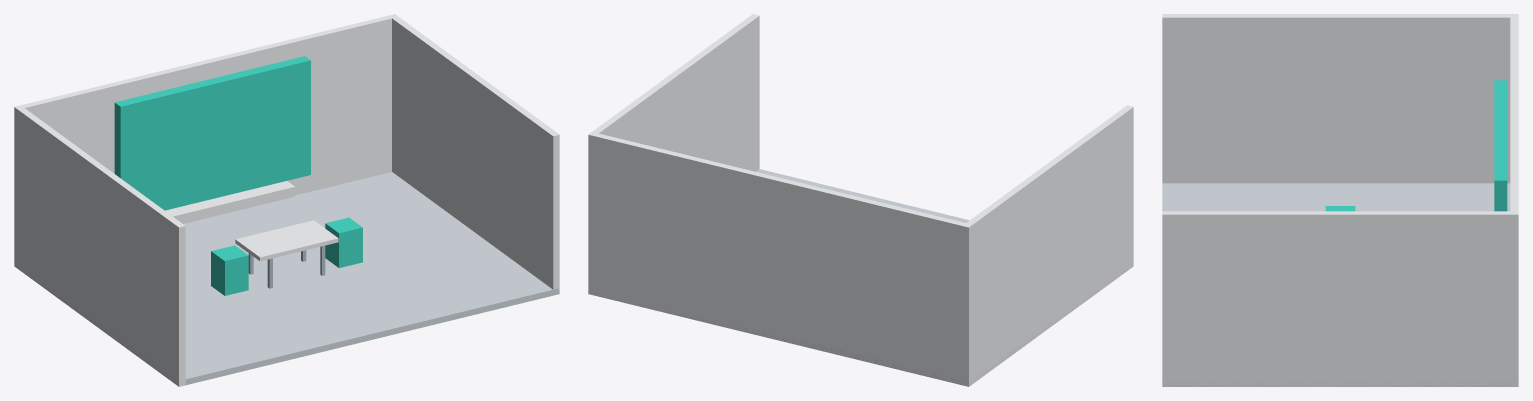
The picture shows the model from 3 angles, left to right: view 1: azimuth 30°, elevation 25°; view 2: azimuth 150°, elevation 25°; view 3: azimuth 270°, elevation 25°; orthographic projection. The views are drawn at different scales.
Visible parts, largest first — view 1: Exhibition Booth Concept; view 2: Exhibition Booth Concept; view 3: Exhibition Booth Concept.
Part boxes in pixels (left/top/right/bottom): Exhibition Booth Concept: left=14, top=14, right=559, bottom=386; Exhibition Booth Concept: left=588, top=14, right=1133, bottom=386; Exhibition Booth Concept: left=1162, top=14, right=1518, bottom=386.
Bounding box in the file's own units: 8 × 3.2 × 6.
